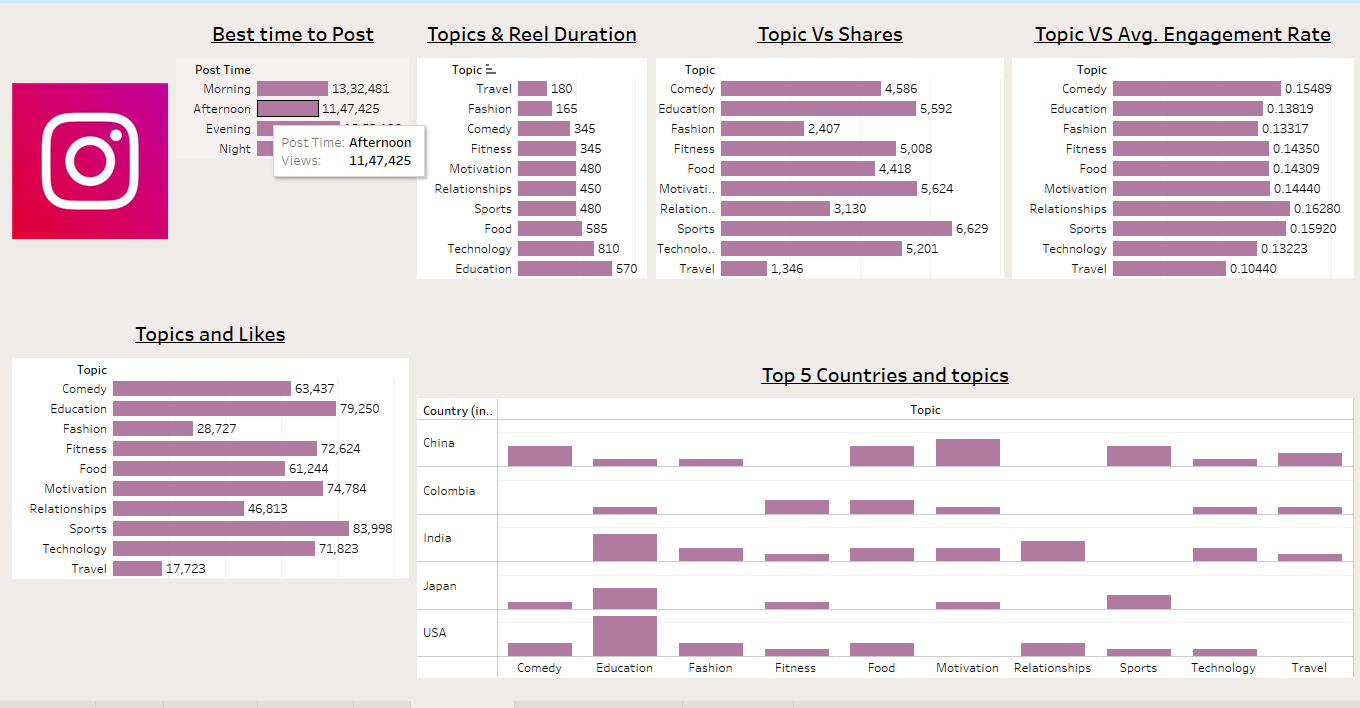

The page's visual inventory and layout, read from the dashboard file:
{"tool":"tableau","page":{"name":"Dashboard 1","canvas":[1000,1000],"units":"permille","ordinal":0},"visuals":[{"type":"image","param":"C:/Users/sh25v.LENOVO/Downloads/Instagram_project/images.jpg","box":[6.9,14.7,119.5,426.5]},{"type":"worksheet","title":"time_vs_views","mark":"Automatic","rows":["Post_Time"],"cols":["Views"],"box":[126.4,14.7,176.6,426.5]},{"type":"worksheet","title":"Sheet 5","mark":"Automatic","rows":["Topic"],"cols":["Duration_sec"],"box":[303,14.7,174,426.5]},{"type":"worksheet","title":"Topicvs Share","mark":"Automatic","rows":["Topic"],"cols":["Shares"],"box":[477.1,14.7,260.6,426.5]},{"type":"worksheet","title":"Eng rate_topic","mark":"Automatic","rows":["Topic"],"cols":["Engagement_Rate"],"box":[737.7,14.7,255.4,426.5]},{"type":"worksheet","title":"topic_like","mark":"Automatic","rows":["Topic"],"cols":["Likes"],"box":[6.9,441.2,296.1,544.1]},{"type":"worksheet","title":"CountryVStopics","mark":"Automatic","rows":["Country (instagram_reels_sample_data.csv)","Reel_ID"],"cols":["Topic"],"box":[303,441.2,690,544.1]}]}

Visuals, with their boxes on the dashboard's canvas, which has no fixed pixel size, in thousandths of its width and height (x1, y1, x2, y2). These are canvas units, not pixel positions in the 1360x708 screenshot, which may show the page scaled, cropped or inside an application window:
image: x1=7, y1=15, x2=126, y2=441
"time_vs_views" worksheet: x1=126, y1=15, x2=303, y2=441
"Sheet 5" worksheet: x1=303, y1=15, x2=477, y2=441
"Topicvs Share" worksheet: x1=477, y1=15, x2=738, y2=441
"Eng rate_topic" worksheet: x1=738, y1=15, x2=993, y2=441
"topic_like" worksheet: x1=7, y1=441, x2=303, y2=985
"CountryVStopics" worksheet: x1=303, y1=441, x2=993, y2=985
